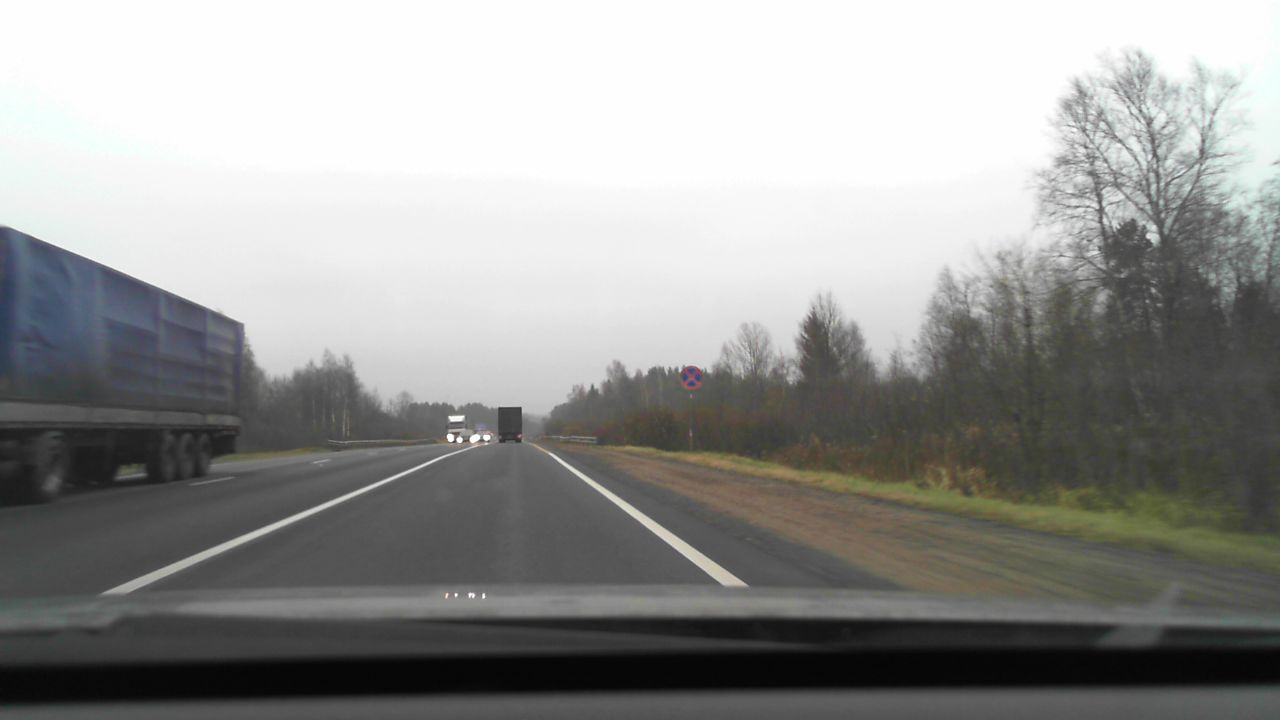No Parking: (678, 365, 704, 390)
